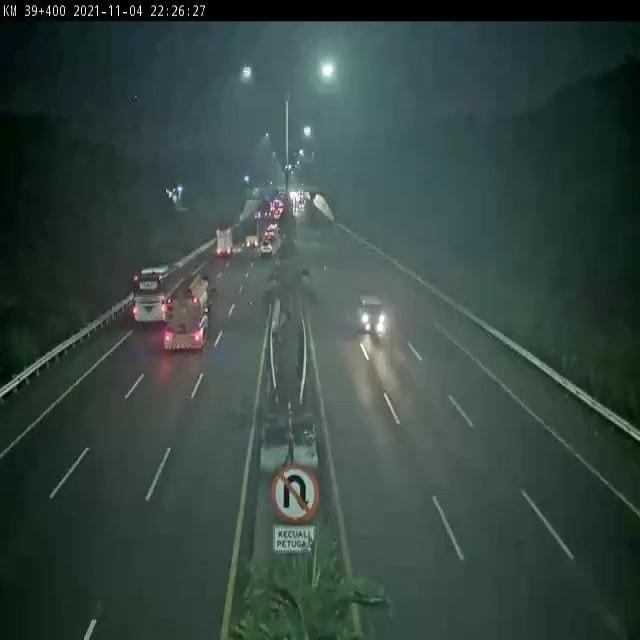bus-l-: (132, 266, 183, 326)
car: (354, 287, 388, 341), (260, 238, 274, 258), (263, 227, 278, 241)
truck-l-: (164, 272, 211, 352)
truck-m-: (214, 225, 234, 259)
